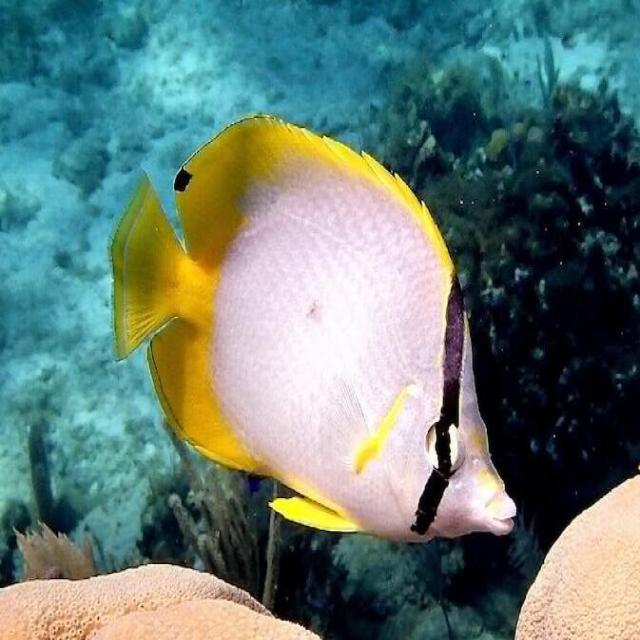ButterflyFish: (110, 111, 518, 548)
